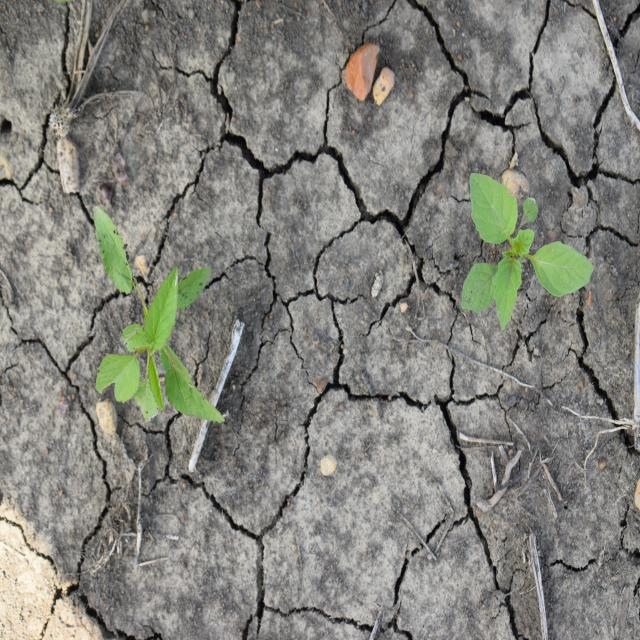CutleafGroundcherry: (460, 170, 596, 334)
PricklySida: (91, 203, 227, 427)
